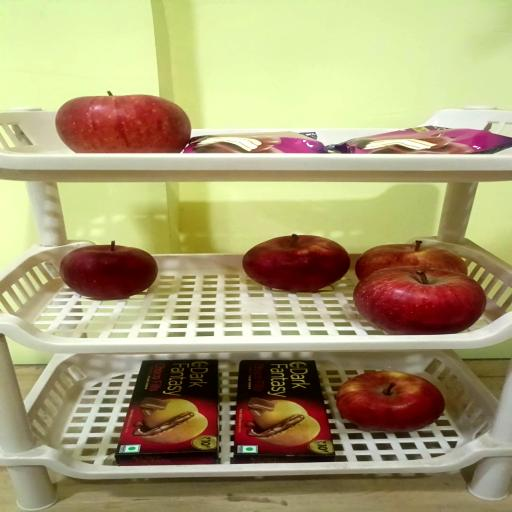Apple: (354, 266, 486, 335), (55, 91, 190, 153), (337, 371, 444, 433), (243, 234, 350, 293), (60, 241, 157, 300), (355, 240, 467, 280)
Choco Fills: (116, 359, 218, 465), (233, 358, 335, 463)
Choco Pie: (331, 126, 512, 155), (183, 131, 327, 155)
